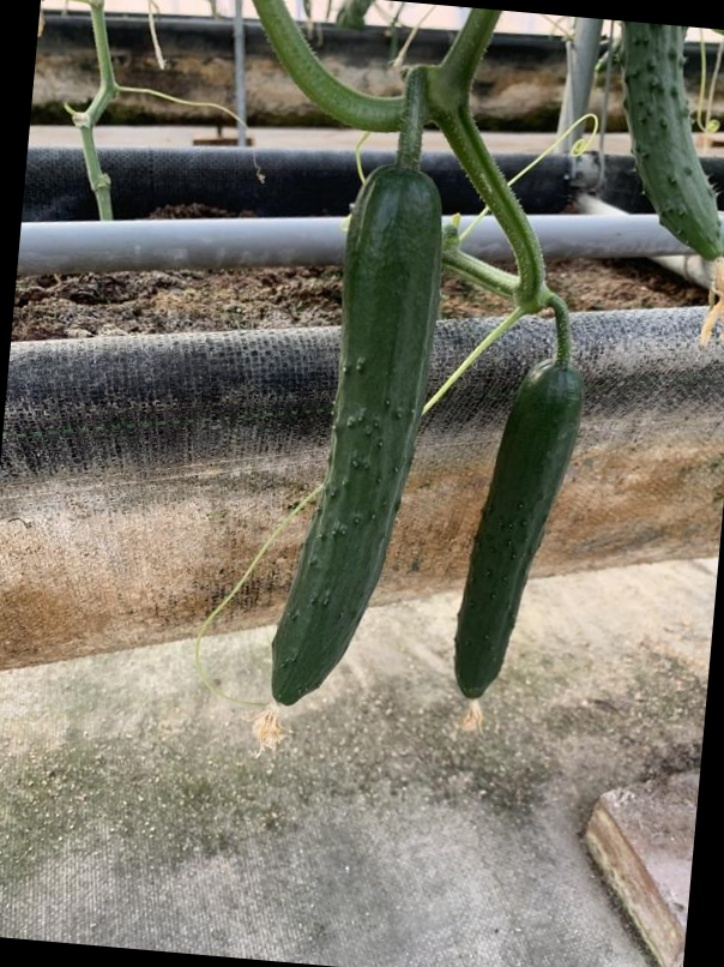mature: (261, 163, 446, 715), (446, 354, 587, 713)
